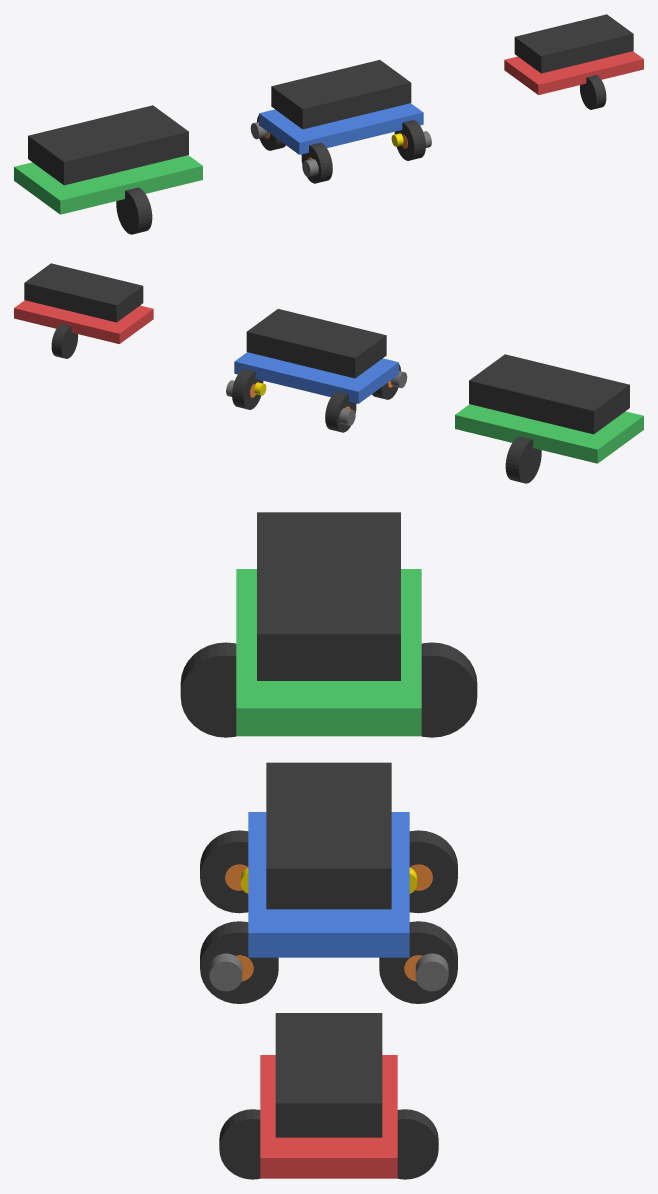
Rendered from robo_variacoes.glb.
3 views of the same model, one above another, from view 1: azimuth 30°, elevation 25°; view 2: azimuth 150°, elevation 25°; view 3: azimuth 270°, elevation 25° (orthographic). The views are drawn at different scales.
Parts seen in each view (by area): view 1: robo_v3_verde_top, robo_v1_azul_top, robo_v3_verde_base, robo_v2_vermelho_top, robo_v1_azul_base, robo_v2_vermelho_base, robo_v3_verde_wheel, robo_v1_azul_wheel.002, robo_v1_azul_wheel, robo_v2_vermelho_wheel; view 2: robo_v3_verde_top, robo_v1_azul_top, robo_v3_verde_base, robo_v2_vermelho_top, robo_v1_azul_base, robo_v2_vermelho_base, robo_v3_verde_wheel.001, robo_v1_azul_wheel.003, robo_v1_azul_wheel.001, robo_v2_vermelho_wheel.001; view 3: robo_v3_verde_top, robo_v1_azul_top, robo_v3_verde_base, robo_v2_vermelho_top, robo_v1_azul_base, robo_v2_vermelho_base, robo_v3_verde_wheel, robo_v3_verde_wheel.001, robo_v1_azul_wheel.002, robo_v1_azul_wheel.003, robo_v1_azul_wheel, robo_v1_azul_wheel.001 (+4 smaller).
Boxes of the visible parts, x1=… form: robo_v3_verde_top: x1=28, y1=105, x2=188, y2=185; robo_v1_azul_top: x1=271, y1=60, x2=411, y2=129; robo_v3_verde_base: x1=14, y1=155, x2=202, y2=214; robo_v2_vermelho_top: x1=514, y1=14, x2=633, y2=73; robo_v1_azul_base: x1=259, y1=103, x2=423, y2=154; robo_v2_vermelho_base: x1=504, y1=51, x2=643, y2=94; robo_v3_verde_wheel: x1=116, y1=187, x2=152, y2=234; robo_v1_azul_wheel.002: x1=394, y1=120, x2=425, y2=160; robo_v1_azul_wheel: x1=301, y1=142, x2=332, y2=183; robo_v2_vermelho_wheel: x1=580, y1=75, x2=606, y2=109; robo_v3_verde_top: x1=469, y1=354, x2=629, y2=434; robo_v1_azul_top: x1=246, y1=309, x2=386, y2=378; robo_v3_verde_base: x1=455, y1=404, x2=643, y2=463; robo_v2_vermelho_top: x1=24, y1=263, x2=143, y2=322; robo_v1_azul_base: x1=234, y1=352, x2=398, y2=403; robo_v2_vermelho_base: x1=14, y1=300, x2=153, y2=343; robo_v3_verde_wheel.001: x1=505, y1=436, x2=541, y2=483; robo_v1_azul_wheel.003: x1=232, y1=369, x2=263, y2=409; robo_v1_azul_wheel.001: x1=325, y1=391, x2=356, y2=432; robo_v2_vermelho_wheel.001: x1=51, y1=324, x2=77, y2=358; robo_v3_verde_top: x1=257, y1=512, x2=400, y2=680; robo_v1_azul_top: x1=266, y1=762, x2=391, y2=909; robo_v3_verde_base: x1=236, y1=569, x2=421, y2=736; robo_v2_vermelho_top: x1=275, y1=1013, x2=382, y2=1137; robo_v1_azul_base: x1=248, y1=812, x2=409, y2=957; robo_v2_vermelho_base: x1=260, y1=1055, x2=397, y2=1178; robo_v3_verde_wheel: x1=180, y1=642, x2=236, y2=737; robo_v3_verde_wheel.001: x1=421, y1=642, x2=477, y2=737; robo_v1_azul_wheel.002: x1=200, y1=921, x2=278, y2=1003; robo_v1_azul_wheel.003: x1=379, y1=921, x2=457, y2=1003; robo_v1_azul_wheel: x1=200, y1=830, x2=248, y2=913; robo_v1_azul_wheel.001: x1=409, y1=830, x2=457, y2=913.
Bounding box in the file's own units: 7.6 × 0.9717 × 1.66.
